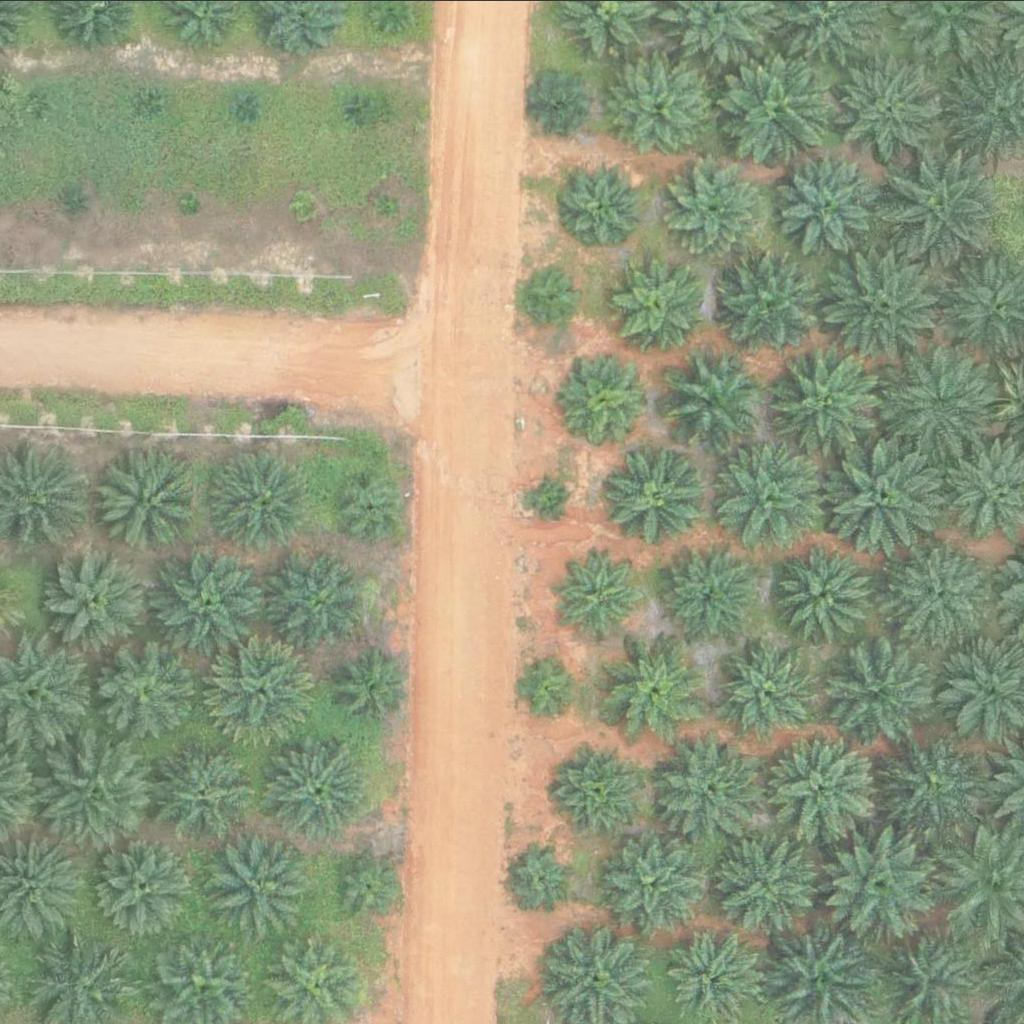Kelapa_Sawit: (820, 818, 946, 943), (824, 435, 950, 560), (881, 342, 1007, 467), (823, 246, 949, 371), (882, 141, 1008, 266), (713, 40, 839, 165), (763, 722, 888, 847), (772, 344, 886, 457), (713, 244, 827, 357), (150, 544, 263, 657), (211, 632, 324, 744), (43, 737, 156, 849), (707, 439, 820, 551), (774, 145, 887, 257), (831, 54, 944, 166), (268, 550, 369, 650), (159, 741, 260, 841), (266, 737, 367, 837), (95, 834, 196, 934), (204, 834, 305, 934), (601, 833, 702, 933), (713, 833, 814, 933), (658, 738, 759, 838), (885, 730, 986, 830), (605, 636, 706, 736), (720, 641, 821, 741), (834, 640, 935, 740), (657, 544, 758, 644), (773, 542, 874, 642), (889, 545, 990, 645), (667, 161, 768, 261), (608, 57, 709, 157), (96, 452, 196, 552), (210, 447, 310, 547), (49, 546, 149, 646), (99, 640, 199, 740), (602, 444, 702, 544), (660, 349, 760, 449), (557, 551, 645, 639), (612, 258, 700, 346), (561, 159, 649, 247), (554, 740, 642, 827), (566, 353, 654, 440), (332, 466, 408, 541), (338, 648, 413, 723), (332, 844, 407, 919), (531, 72, 594, 135), (511, 844, 574, 906), (512, 658, 575, 720), (524, 263, 587, 325), (532, 476, 570, 513), (29, 87, 54, 112), (145, 93, 170, 118), (62, 187, 87, 212), (180, 191, 205, 216), (292, 195, 317, 220), (376, 192, 401, 217), (234, 92, 259, 117), (344, 99, 369, 124)
